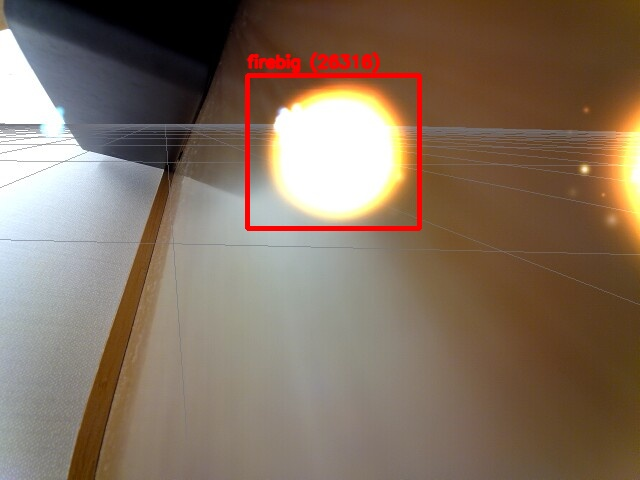firebig: (247, 75, 419, 228)
